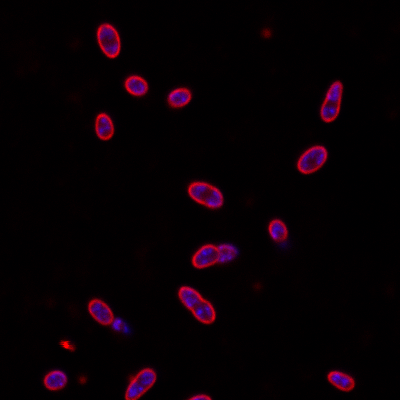MP265: (177, 286, 215, 324), (125, 367, 158, 400), (319, 78, 343, 123), (187, 182, 224, 209), (295, 145, 328, 175), (97, 24, 121, 59), (328, 370, 355, 392), (95, 113, 114, 141), (124, 75, 149, 96)
Oblique: (87, 298, 132, 336), (192, 242, 239, 270), (268, 218, 291, 251), (43, 370, 68, 391), (167, 88, 191, 108), (262, 28, 272, 39), (79, 376, 86, 385)
